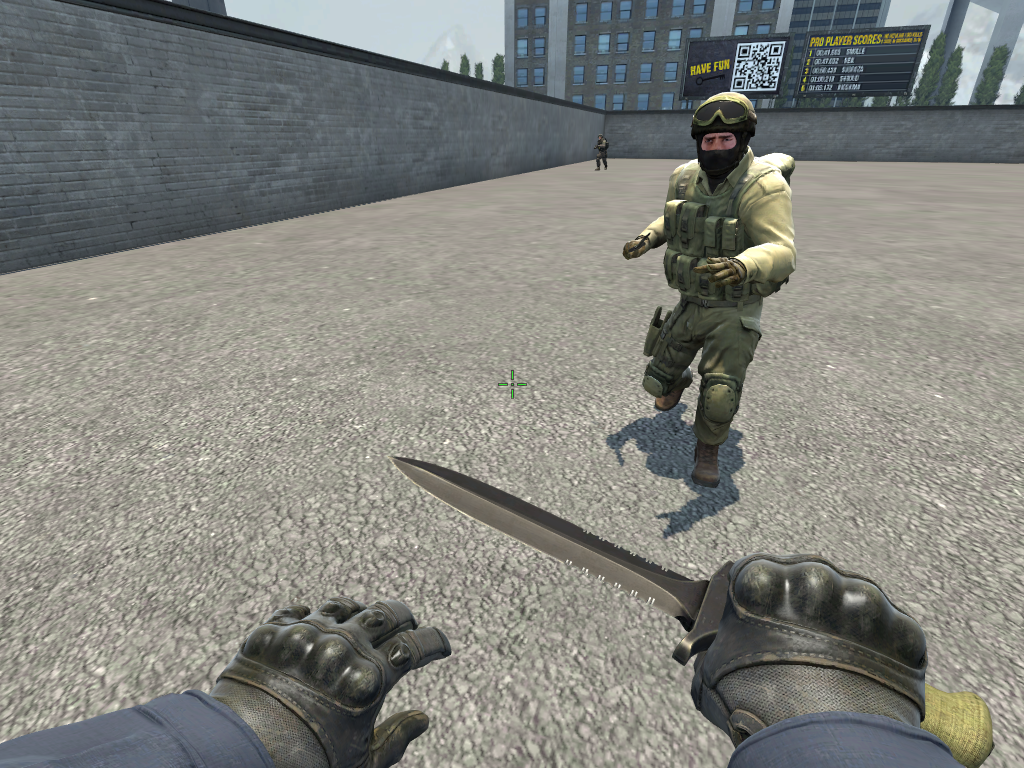ct head: (687, 92, 760, 180), (597, 133, 604, 141)
